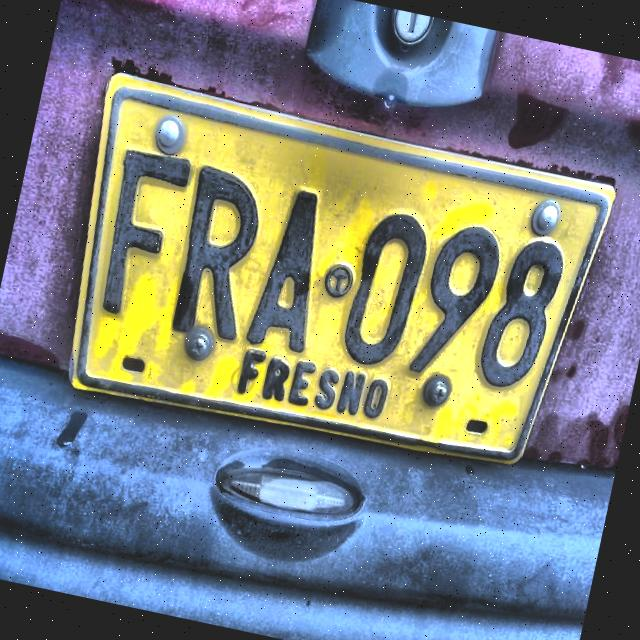plate: (77, 81, 609, 458)
